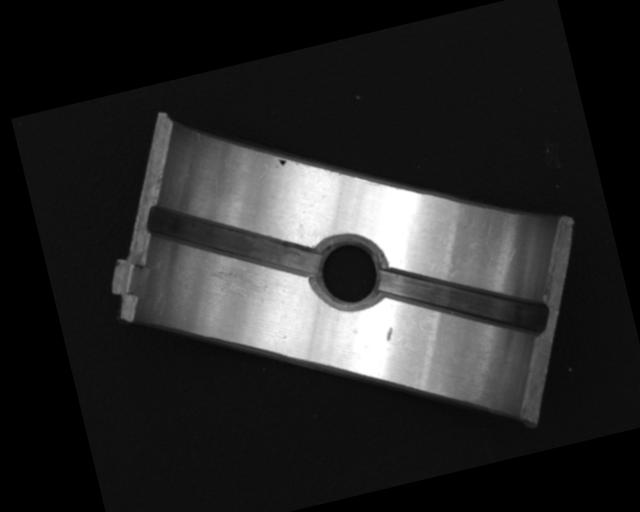blot: (275, 156, 288, 167)
bruise: (383, 326, 396, 342)
gap: (376, 235, 552, 368), (147, 177, 321, 309)
hole: (306, 229, 391, 321)
scratch: (193, 238, 274, 318)
